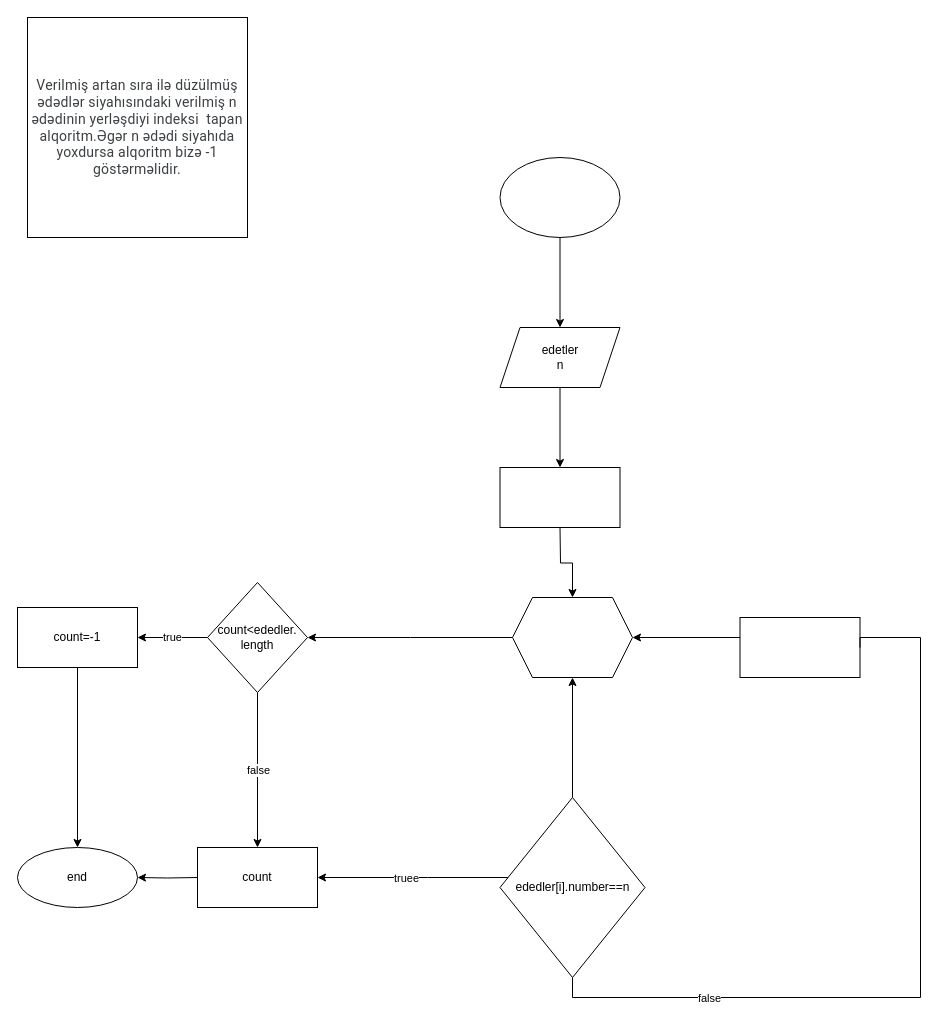
The diagram is 939 pixels wide and 1022 high, and some of its shapes have lost their labels. Here are the shapes that lost their labels. From the top down, the box of each, then its label:
(499, 156, 620, 238): start
(499, 466, 620, 528): count=0
(512, 596, 632, 678): i=0:i<ededler.lenght i++
(739, 616, 860, 678): count++
